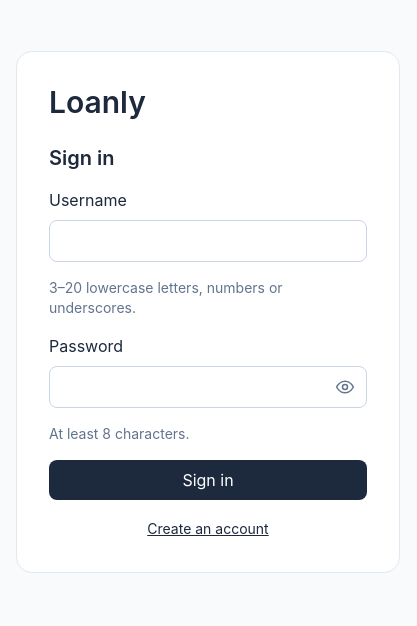
Test: credential errors keep chat guarded and clear the entered password
In the field labelled "Username": (208, 241) [49,220,367,262], type "alice"
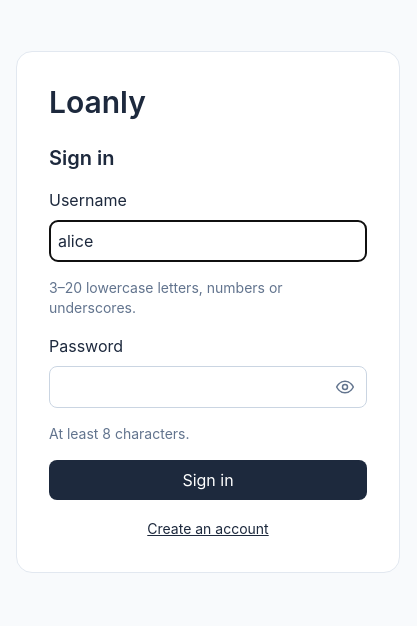
In the password field labelled "Password": (208, 387) [49,366,367,408], type "wrong password"
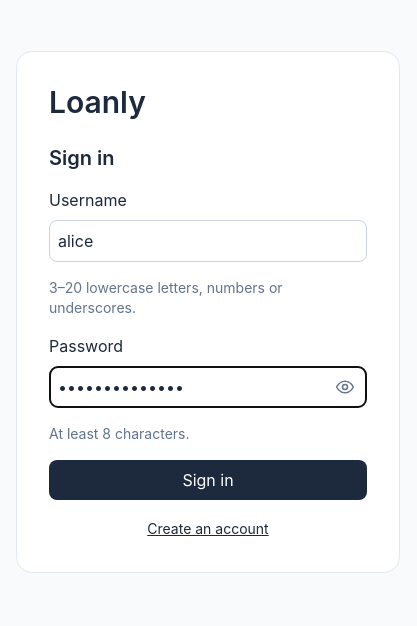
Click the button "Sign in": (208, 480) [49,460,367,500]
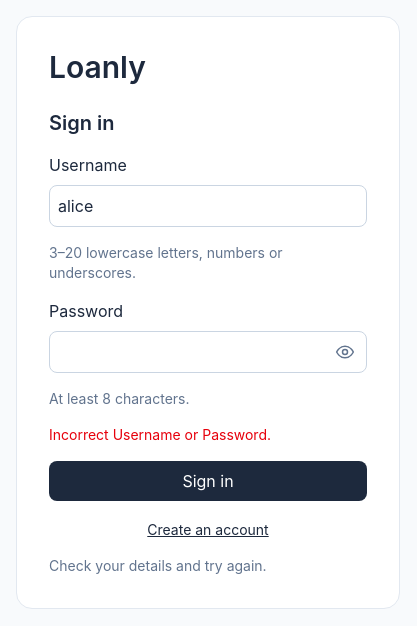
Check: the message shows "Incorrect", box [49,426,271,442]
Check: the password field labelled "Password" is empty, box [49,330,367,372]
